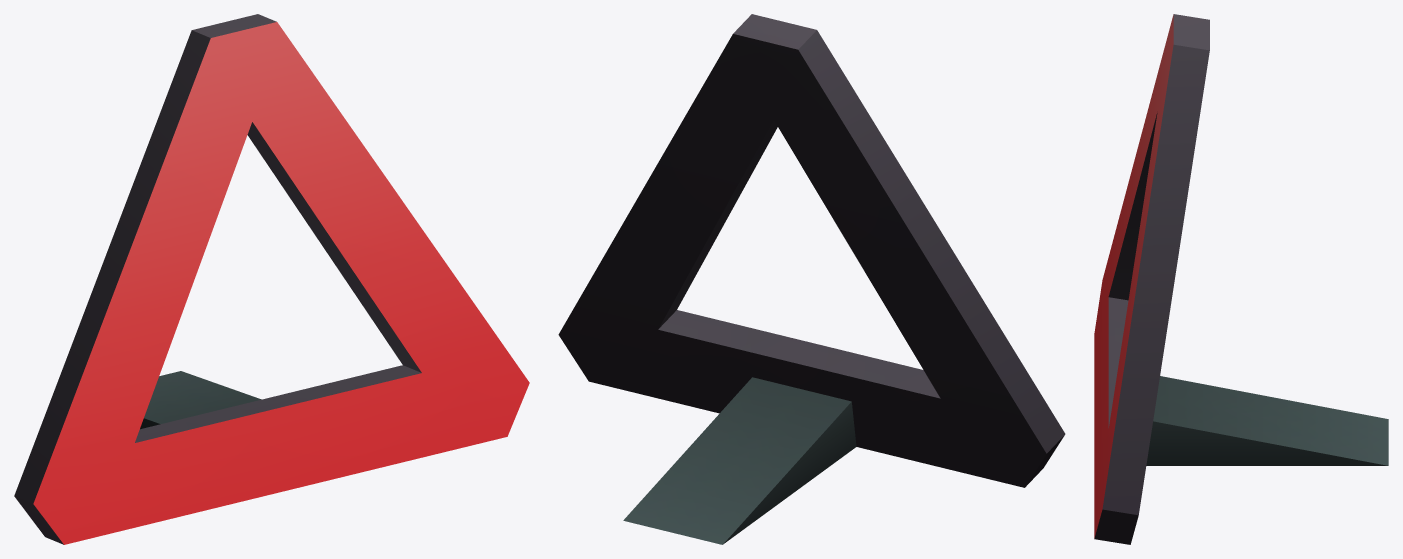
Rendered from Streetsign_3C.fbx.
3 renders of one model, left to right at view 1: azimuth 30°, elevation 25°; view 2: azimuth 150°, elevation 25°; view 3: azimuth 270°, elevation 25°, orthographic. The views are drawn at different scales.
Visible parts, largest first — view 1: Streetsign_3C; view 2: Streetsign_3C; view 3: Streetsign_3C.
Part boxes in pixels (left/top/right/bottom): Streetsign_3C: left=14, top=14, right=529, bottom=544; Streetsign_3C: left=558, top=14, right=1065, bottom=544; Streetsign_3C: left=1094, top=14, right=1388, bottom=544.
Bounding box in the file's own units: 0.7362 × 0.6184 × 0.3992.
